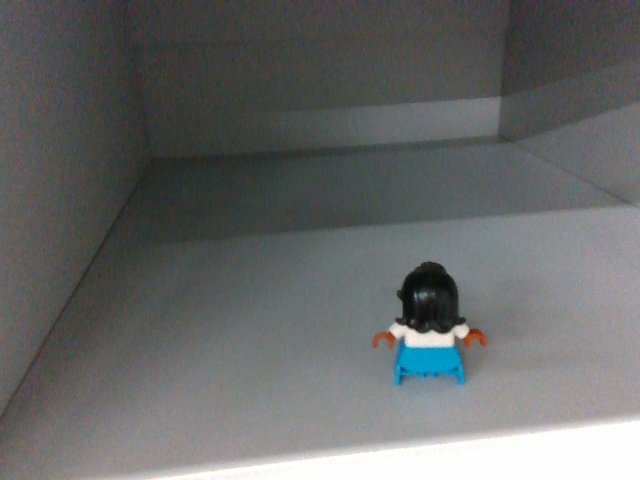people: (370, 259, 492, 391)
